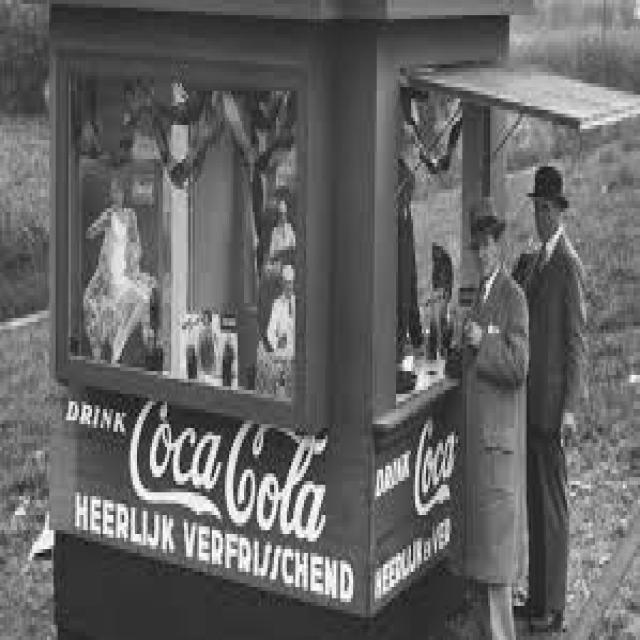coca cola: (126, 390, 347, 543)
